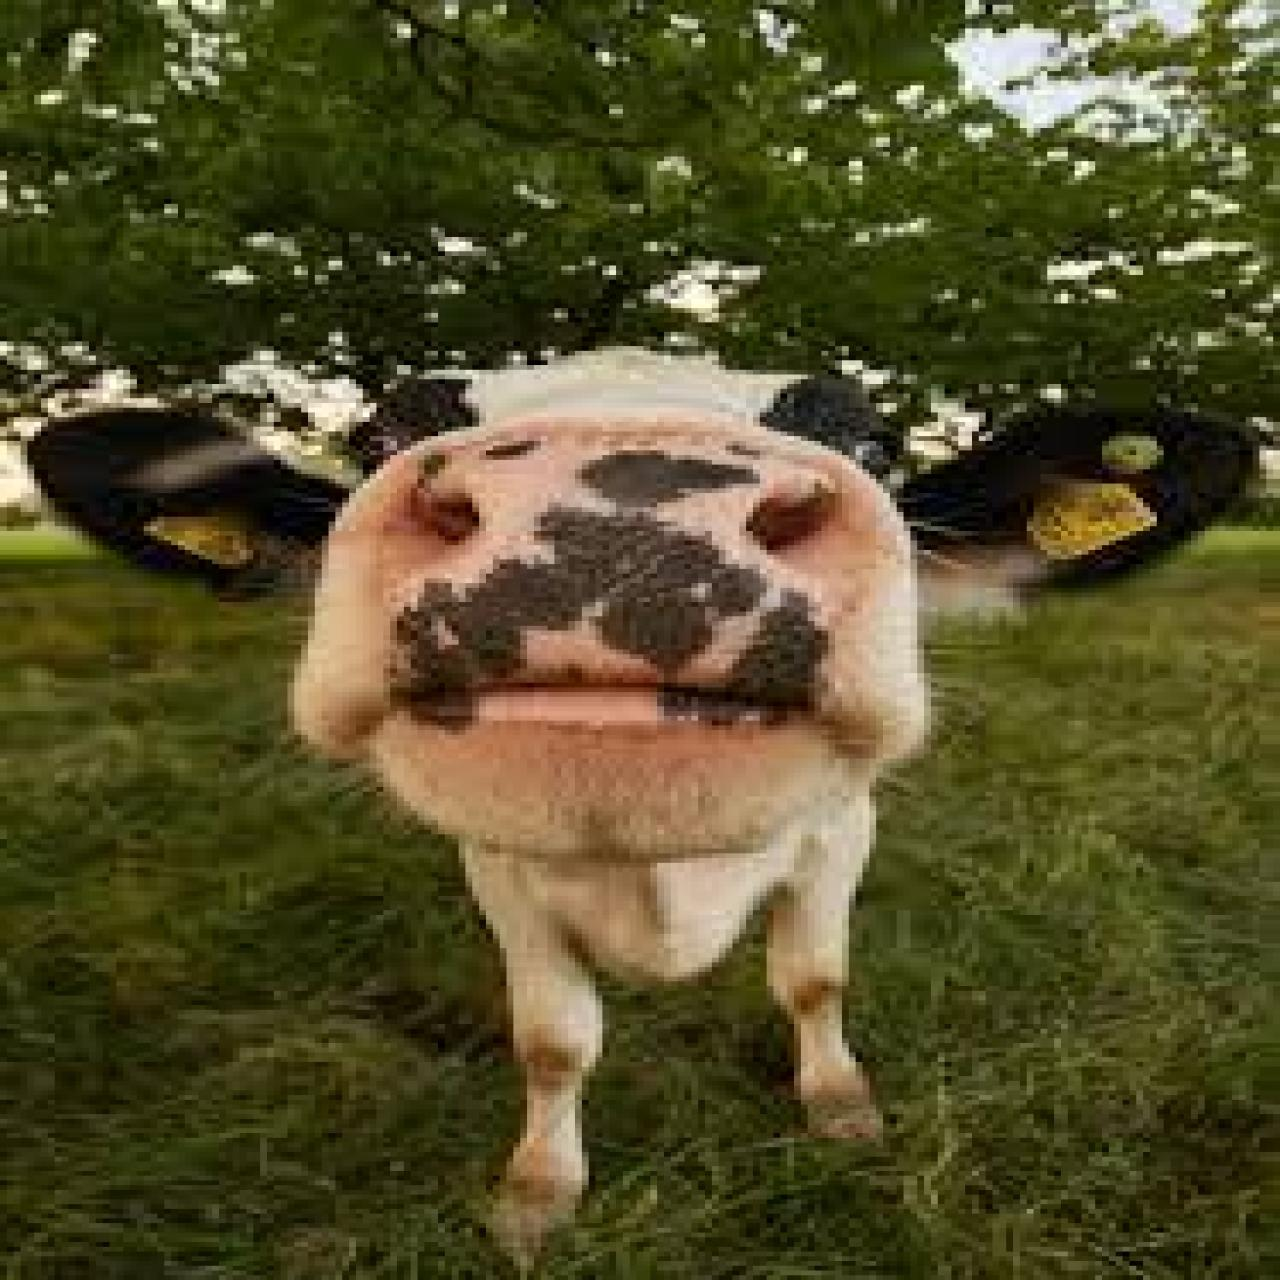cow: (20, 339, 1253, 1225)
